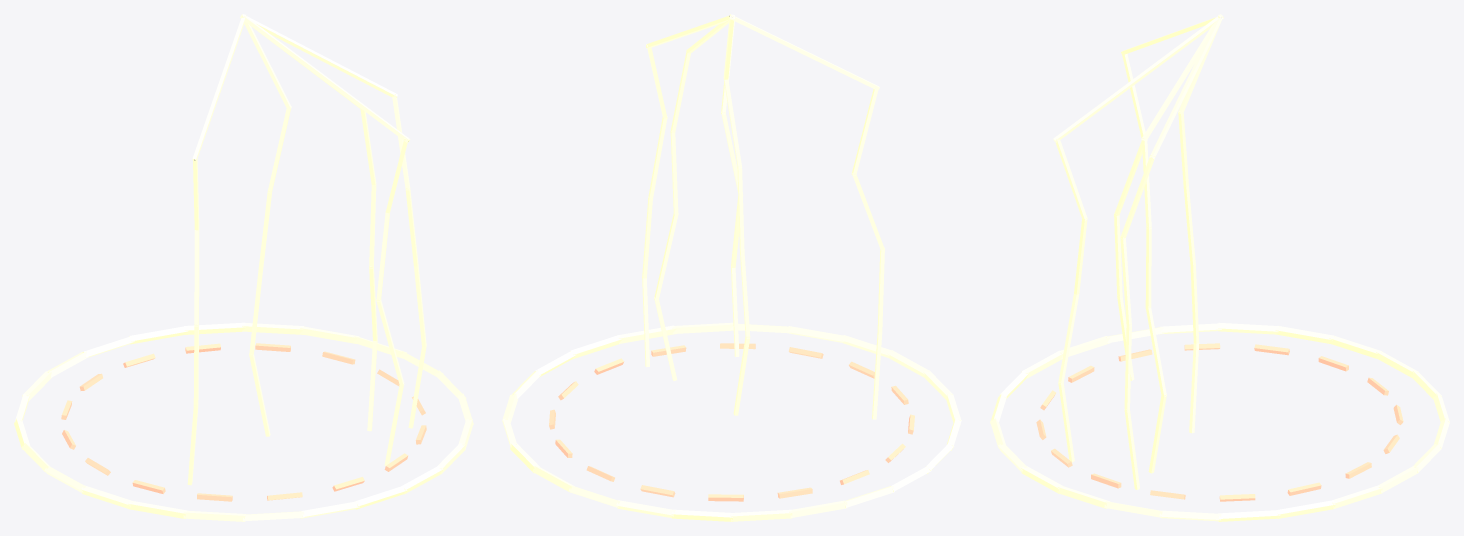
Rendered from FX_AegisShockField.fbx.
3 views of the same model, side by side, from view 1: azimuth 30°, elevation 25°; view 2: azimuth 150°, elevation 25°; view 3: azimuth 270°, elevation 25° (orthographic).
Visible parts, largest first — view 1: ASF_Ring, ASF_Dash, ASF_Bolt1, ASF_Bolt0, ASF_Bolt2, ASF_Bolt4, ASF_Bolt3; view 2: ASF_Ring, ASF_Dash, ASF_Bolt2, ASF_Bolt0, ASF_Bolt4, ASF_Bolt3, ASF_Bolt1; view 3: ASF_Ring, ASF_Bolt1, ASF_Dash, ASF_Bolt0, ASF_Bolt3, ASF_Bolt4, ASF_Bolt2.
Part boxes in pixels (x1,y1,x2,y2): ASF_Ring: (14, 322, 473, 521); ASF_Dash: (61, 343, 426, 501); ASF_Bolt1: (240, 14, 410, 465); ASF_Bolt0: (240, 14, 426, 428); ASF_Bolt2: (187, 14, 246, 485); ASF_Bolt4: (244, 16, 291, 436); ASF_Bolt3: (243, 15, 377, 431); ASF_Ring: (502, 322, 961, 521); ASF_Dash: (549, 343, 914, 501); ASF_Bolt2: (728, 14, 884, 419); ASF_Bolt0: (642, 15, 734, 367); ASF_Bolt4: (723, 14, 750, 415); ASF_Bolt3: (654, 15, 734, 380); ASF_Bolt1: (721, 15, 743, 356); ASF_Ring: (990, 322, 1449, 521); ASF_Bolt1: (1053, 14, 1223, 462); ASF_Dash: (1036, 343, 1403, 501); ASF_Bolt0: (1120, 14, 1221, 489); ASF_Bolt3: (1141, 15, 1221, 473); ASF_Bolt4: (1178, 15, 1221, 433); ASF_Bolt2: (1114, 15, 1223, 380).
Bounding box in the file's own units: 2.04 × 2.02 × 2.04.
